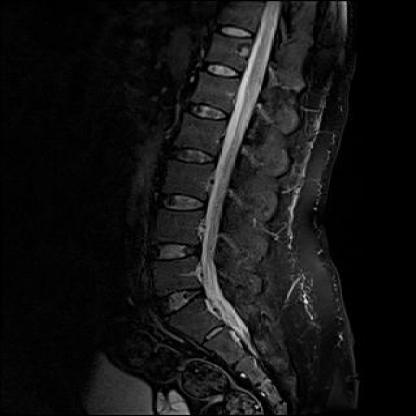Disc Bulgerotation: (151, 287, 213, 315), (143, 238, 206, 265)
